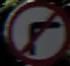Don't turn right: (11, 3, 63, 53)
